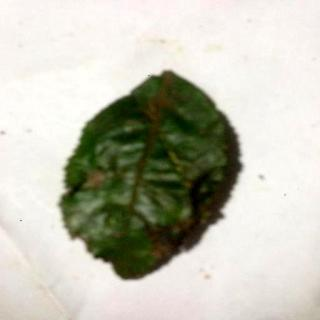Red Leaf Spot: (61, 74, 229, 280)
